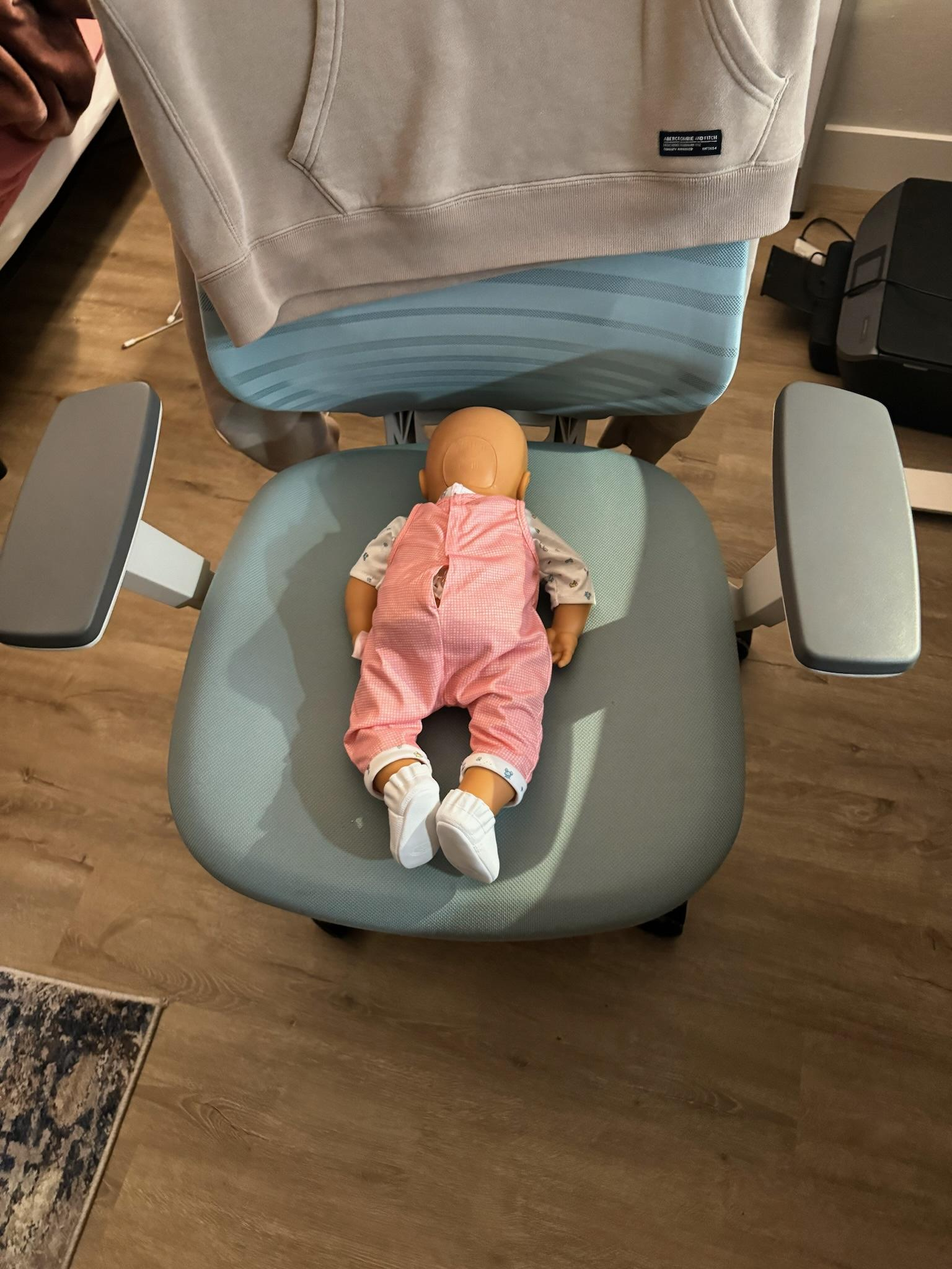baby: (333, 392, 591, 898)
